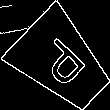P_SE: (31, 32, 93, 93)
